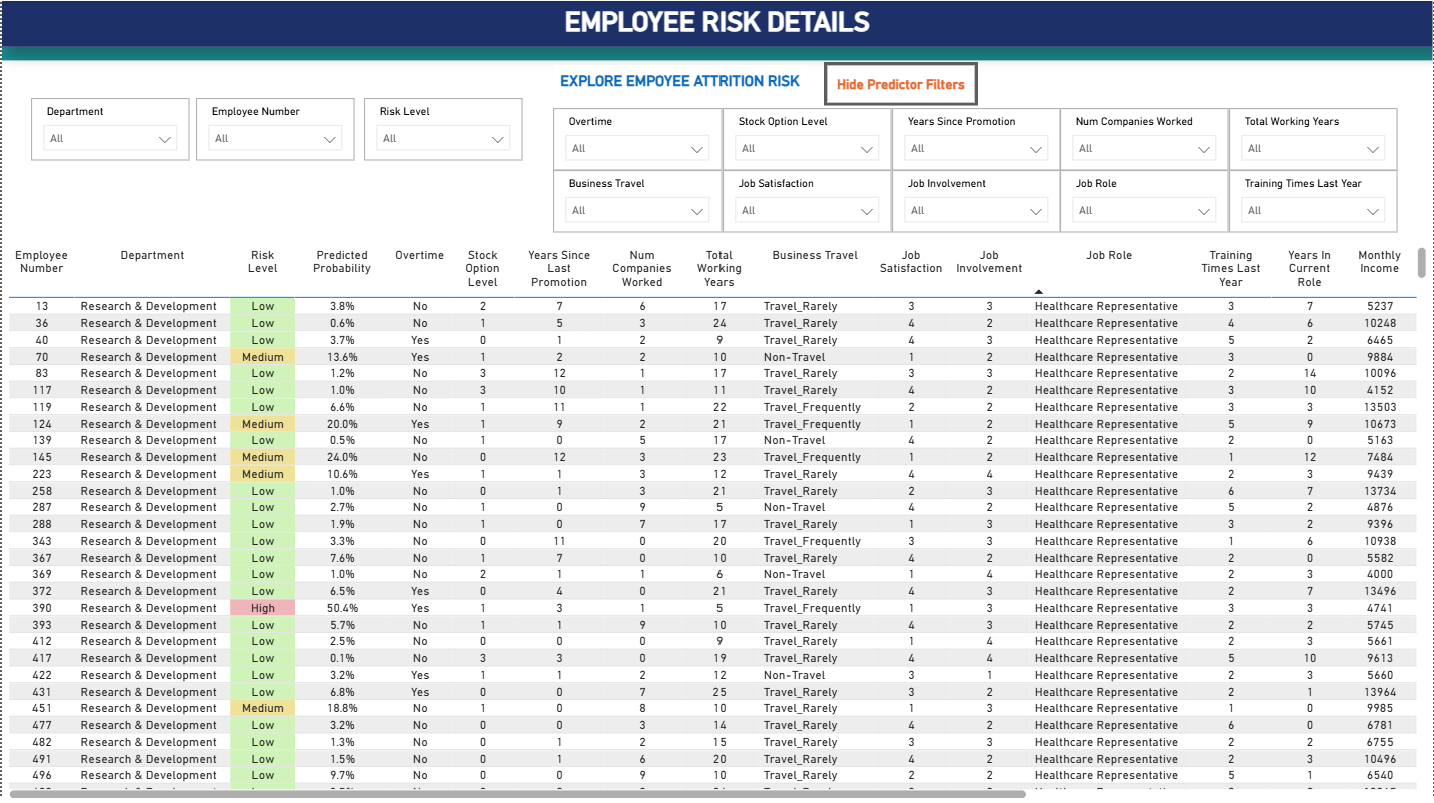

The page's visual inventory and layout, read from the dashboard file:
{"tool":"powerbi","page":{"name":"Employee Risk Details","canvas":[1280,720],"ordinal":1},"visuals":[{"type":"tableEx","fields":{"Values":["HR_Attrition_Predictive_Risk.EmployeeNumber","HR_Attrition_Predictive_Risk.Department","HR_Attrition_Predictive_Risk.Risk_Level","HR_Attrition_Predictive_Risk.Predicted_Probability","HR_Attrition_Predictive_Risk.OverTime","HR_Attrition_Predictive_Risk.StockOptionLevel","HR_Attrition_Predictive_Risk.YearsSinceLastPromotion","HR_Attrition_Predictive_Risk.NumCompaniesWorked","HR_Attrition_Predictive_Risk.TotalWorkingYears","HR_Attrition_Predictive_Risk.BusinessTravel","HR_Attrition_Predictive_Risk.JobSatisfaction","HR_Attrition_Predictive_Risk.JobInvolvement"]},"box":[0,123.2,1280,596.8],"z":0},{"type":"slicer","fields":{"Values":["HR_Attrition_Predictive_Risk.Risk_Level"]},"box":[250,58,114,56],"z":1000},{"type":"slicer","fields":{"Values":["HR_Attrition_Predictive_Risk.EmployeeNumber"]},"box":[125,58,114,56],"z":2000},{"type":"slicer","fields":{"Values":["HR_Attrition_Predictive_Risk.Department"]},"box":[0,58,114,56],"z":3000},{"type":"shape","box":[0,41,1280,12.1],"z":4000},{"type":"textbox","box":[0,0,1280,41],"z":5000}]}

Visuals, with their boxes in screenshot pixels (x1, y1, x2, y2), scaled from the page's 1280x720 canvas onto the 1434x803 screenshot:
tableEx - HR_Attrition_Predictive_Risk.EmployeeNumber x HR_Attrition_Predictive_Risk.Department: (0, 137, 1433, 802)
slicer - HR_Attrition_Predictive_Risk.Risk_Level: (280, 65, 408, 127)
slicer - HR_Attrition_Predictive_Risk.EmployeeNumber: (140, 65, 268, 127)
slicer - HR_Attrition_Predictive_Risk.Department: (0, 65, 128, 127)
shape: (0, 46, 1433, 59)
textbox: (0, 0, 1433, 46)
